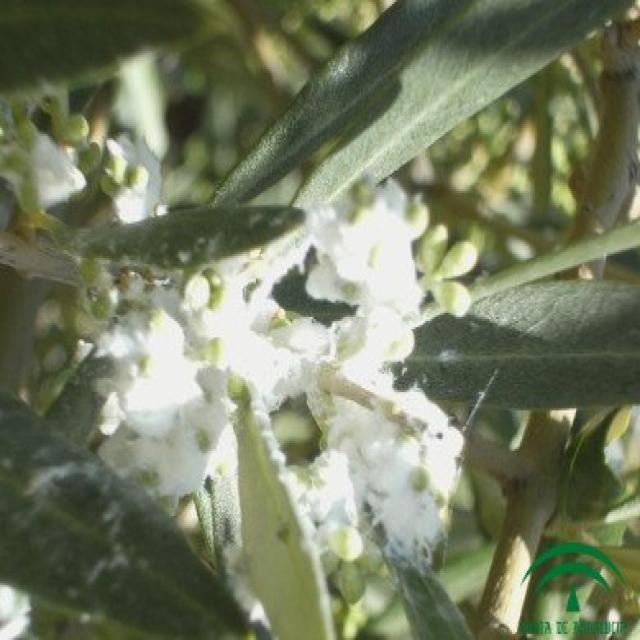Psyllid: (100, 181, 463, 587), (0, 91, 159, 223)
